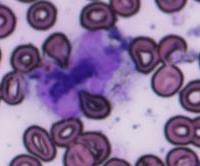D: (67, 29, 124, 87)
